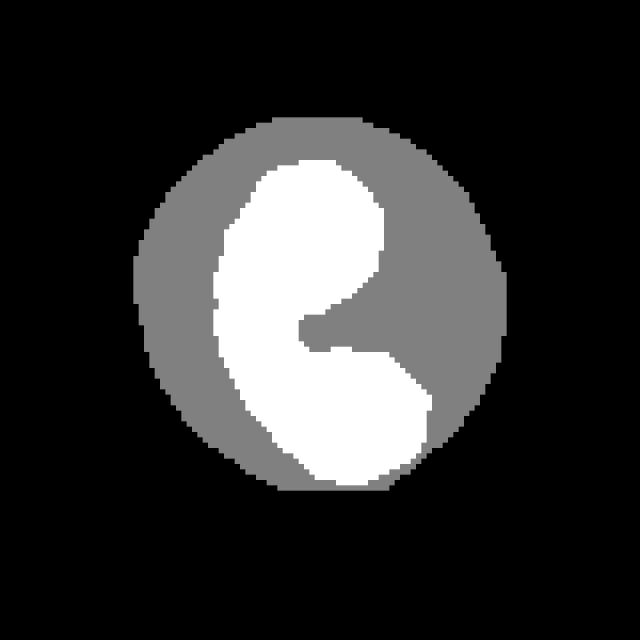WBC: (85, 101, 539, 518)
